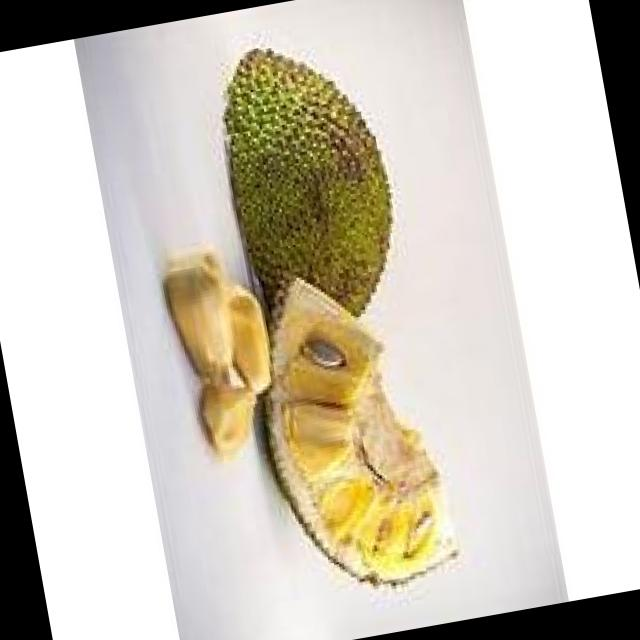Fruit: (186, 16, 429, 356)
